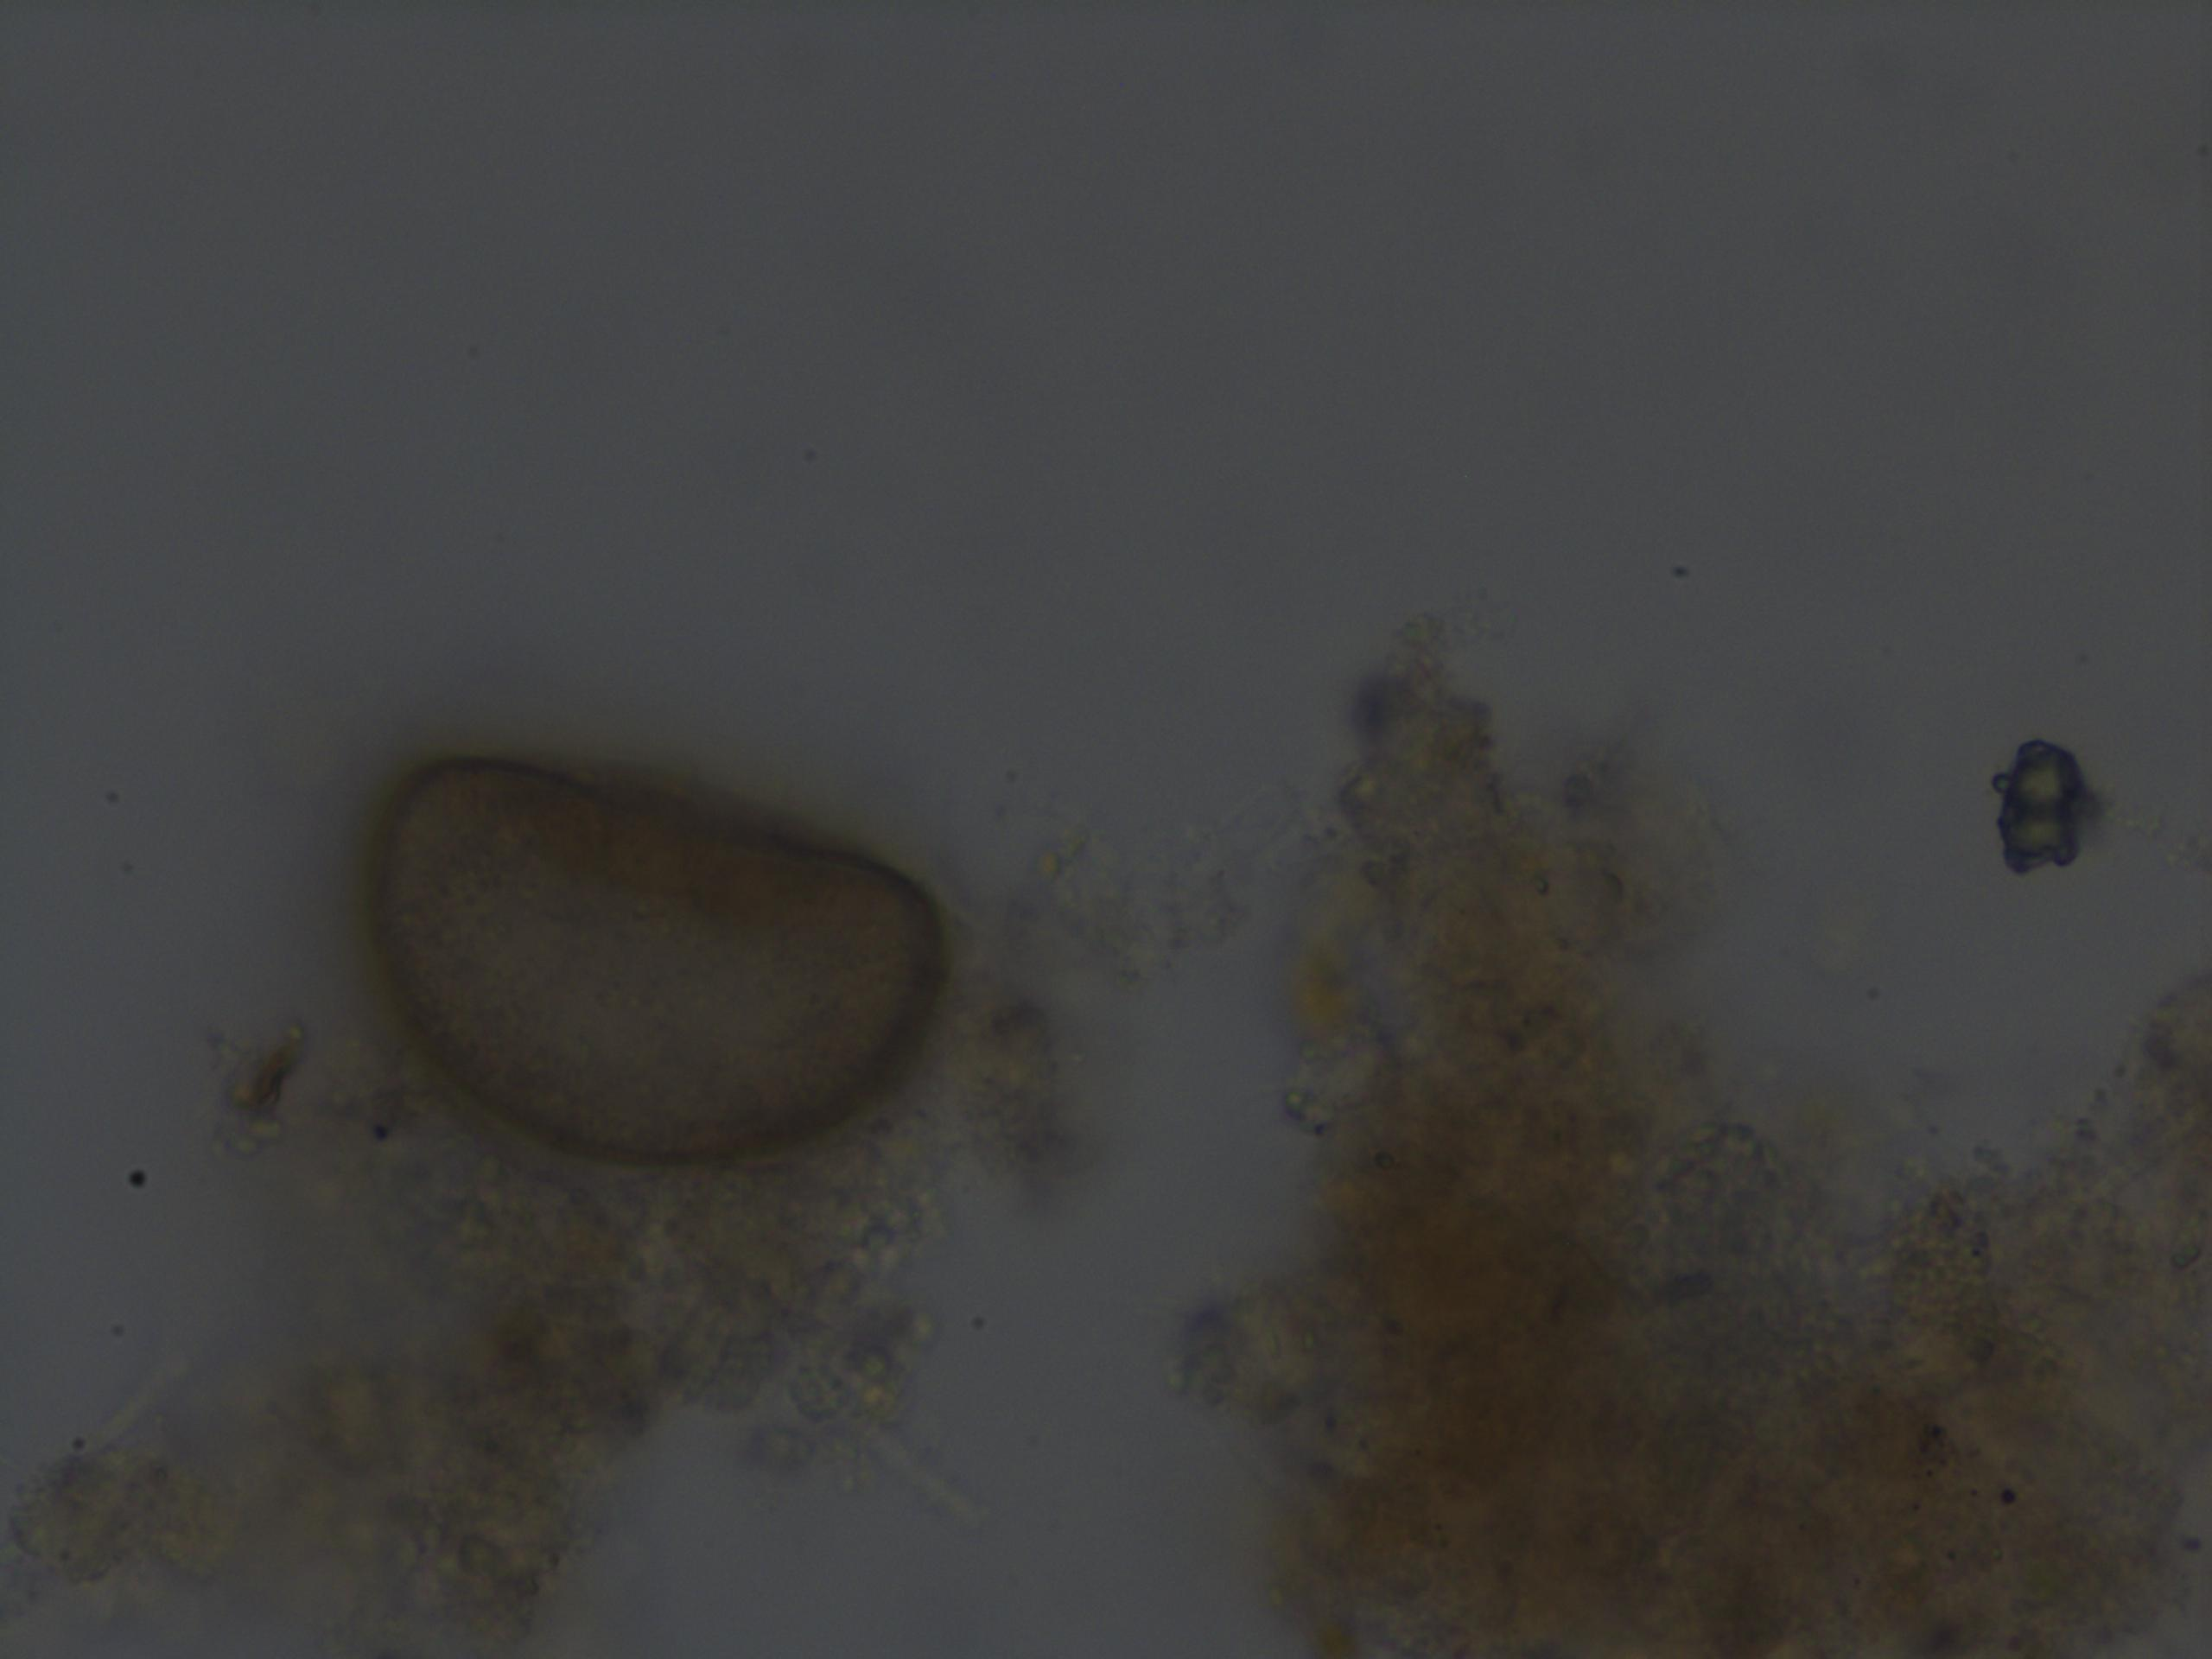protozoa: (317, 734, 967, 1187)
